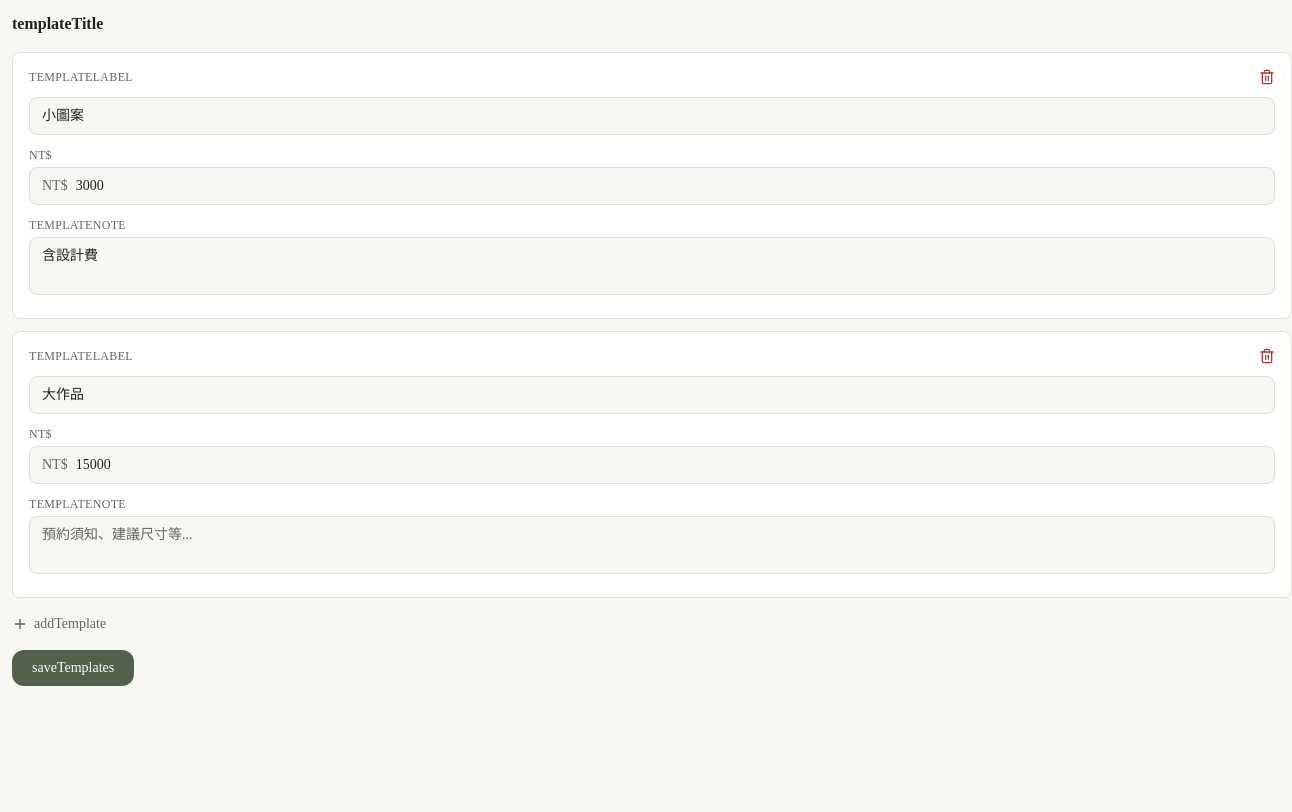
QuoteTemplateManager › delete button removes the template
Click the 1st button named "刪除模板" at (1267, 77), box [1259,69,1275,85]
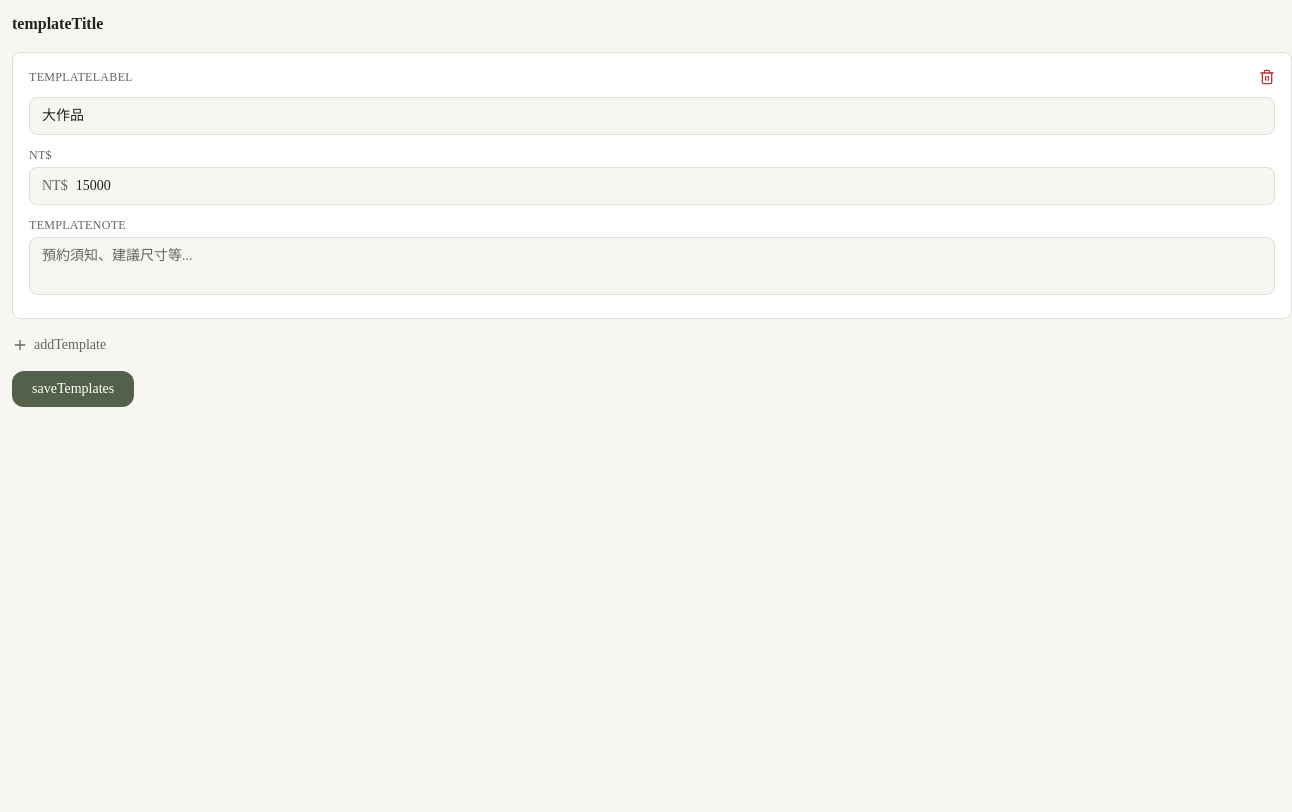
Expected: the number of fields with placeholder "例如：小圖案" is 1, [29,97,1275,135]
Expected: the field with placeholder "例如：小圖案" holds "大作品", [29,97,1275,135]
